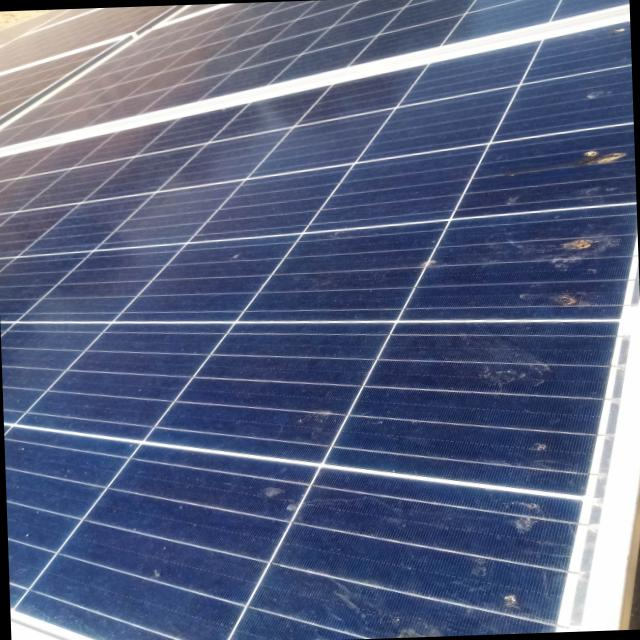faulty: (7, 116, 640, 640)
